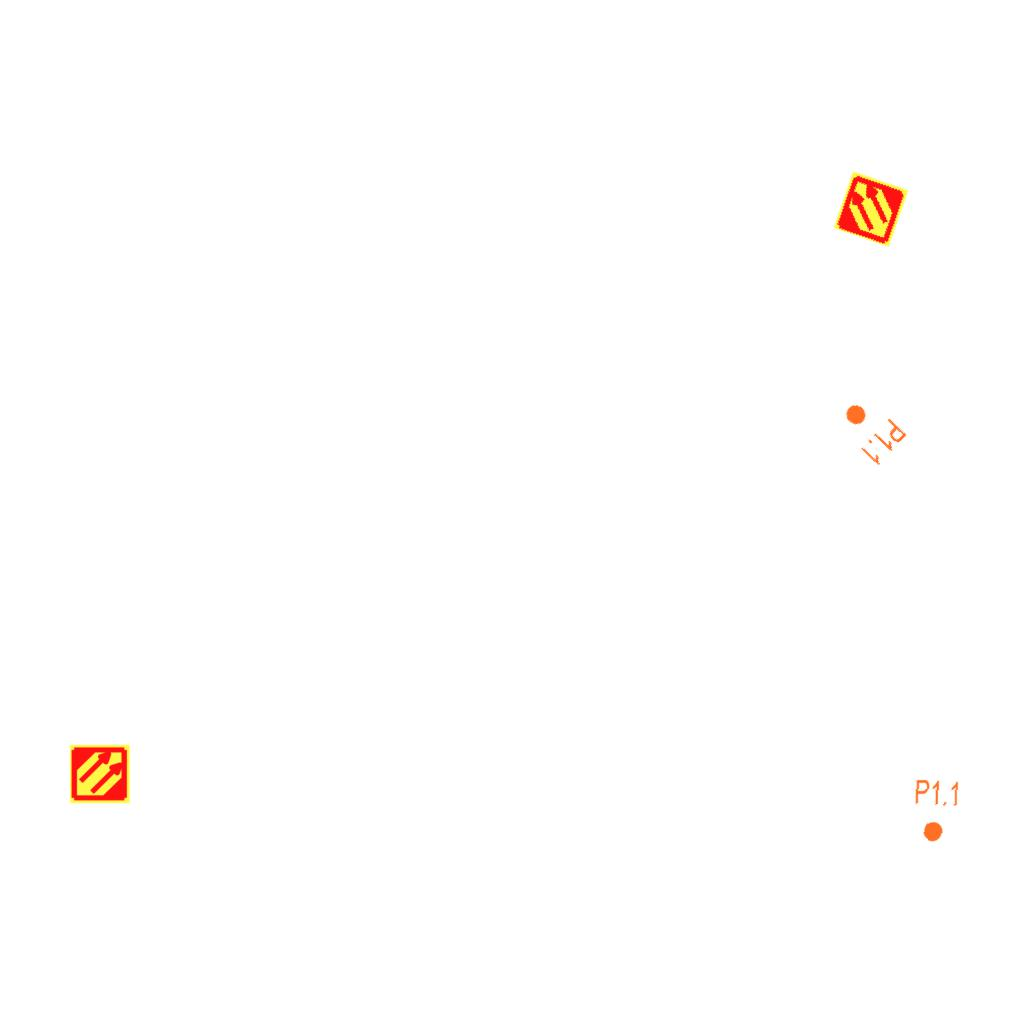ASR_Ansaugrauchmelder: (831, 169, 911, 249), (69, 743, 131, 805)
Downlight_LED_Einbauleuchten_Flur: (830, 391, 910, 469), (910, 777, 962, 845)
